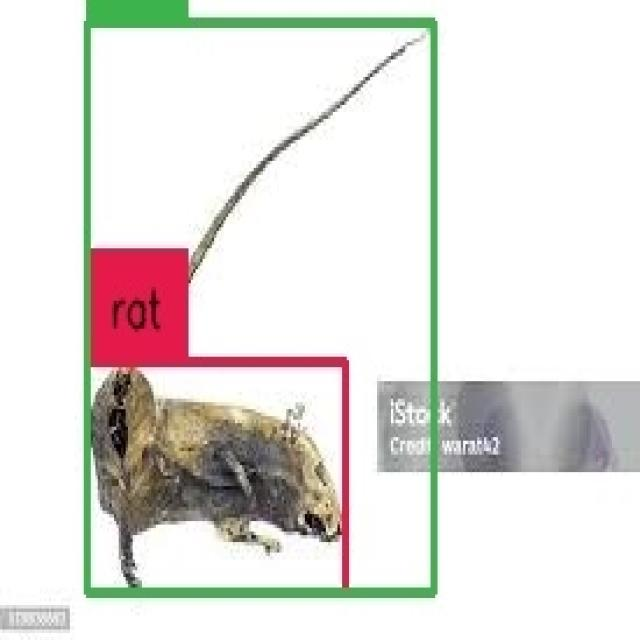rat: (87, 25, 434, 591), (88, 362, 347, 593)
